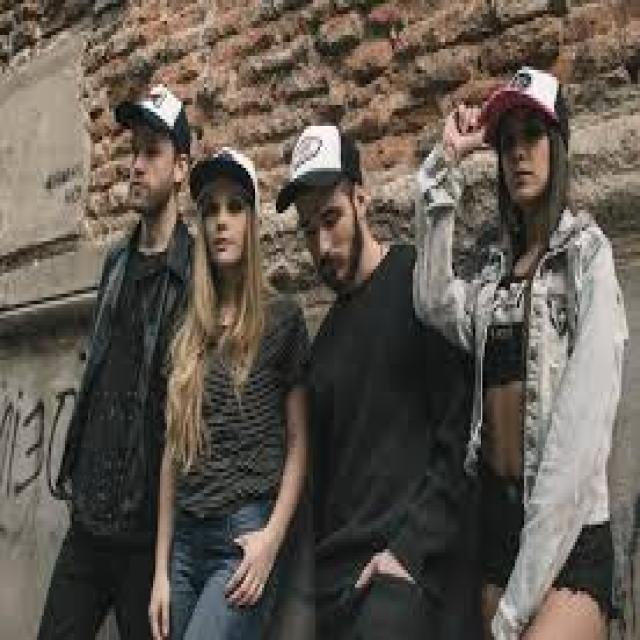cap: (468, 52, 582, 168), (266, 116, 368, 242), (102, 74, 197, 172), (186, 136, 266, 231)
